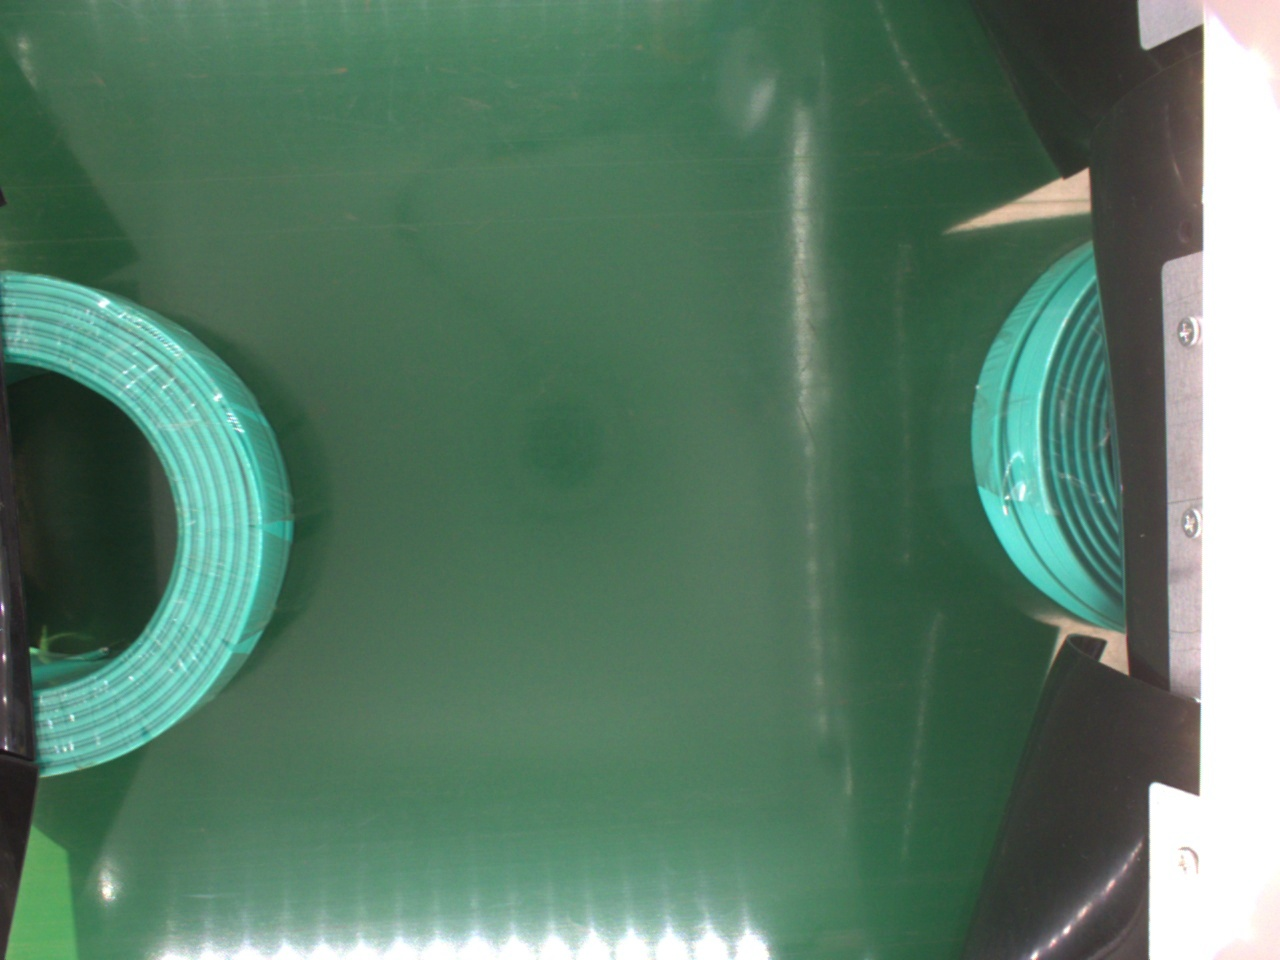green: (5, 268, 291, 782), (972, 239, 1131, 648)
